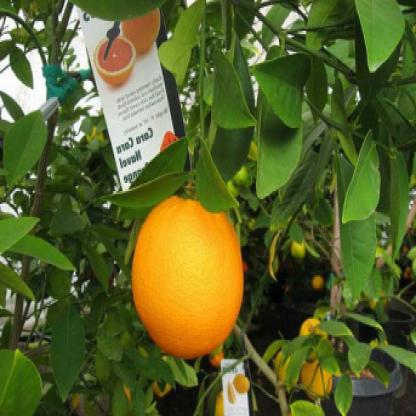orange: (126, 188, 252, 361)
